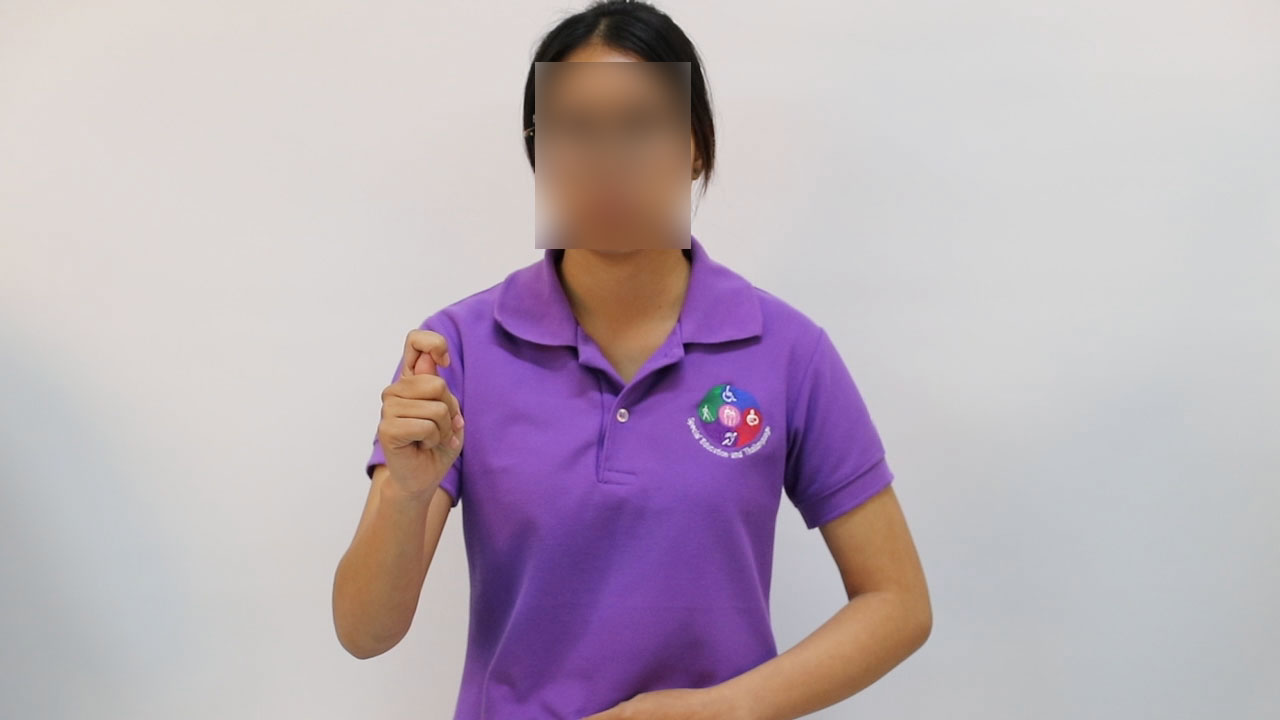or: (366, 323, 471, 507)
